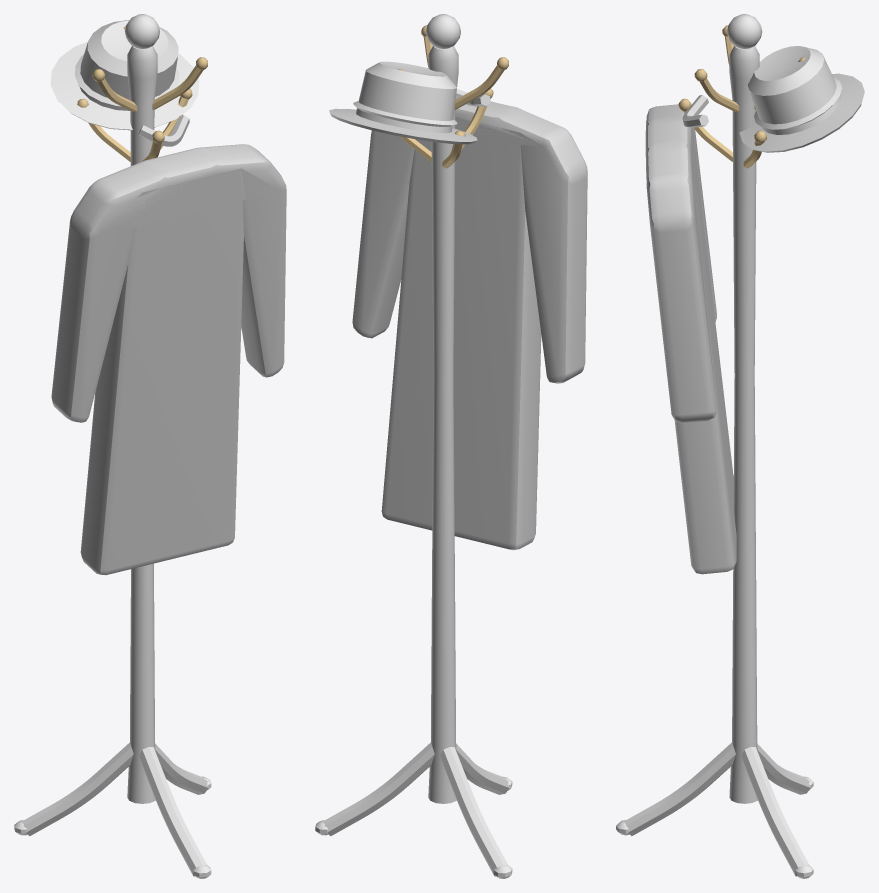
Rendered from SM_Coat_Rack.fbx.
The picture shows the model from 3 angles, left to right: view 1: azimuth 30°, elevation 25°; view 2: azimuth 150°, elevation 25°; view 3: azimuth 270°, elevation 25°; orthographic projection.
Visible parts, largest first — view 1: SM_Coat_Rack_1; view 2: SM_Coat_Rack_1; view 3: SM_Coat_Rack_1.
Part boxes in pixels (box(x1,y1,x2,y2)): SM_Coat_Rack_1: box(14, 14, 286, 878); SM_Coat_Rack_1: box(315, 14, 587, 878); SM_Coat_Rack_1: box(616, 14, 864, 878).
Bounding box in the file's own units: 49.81 × 179 × 49.17.
